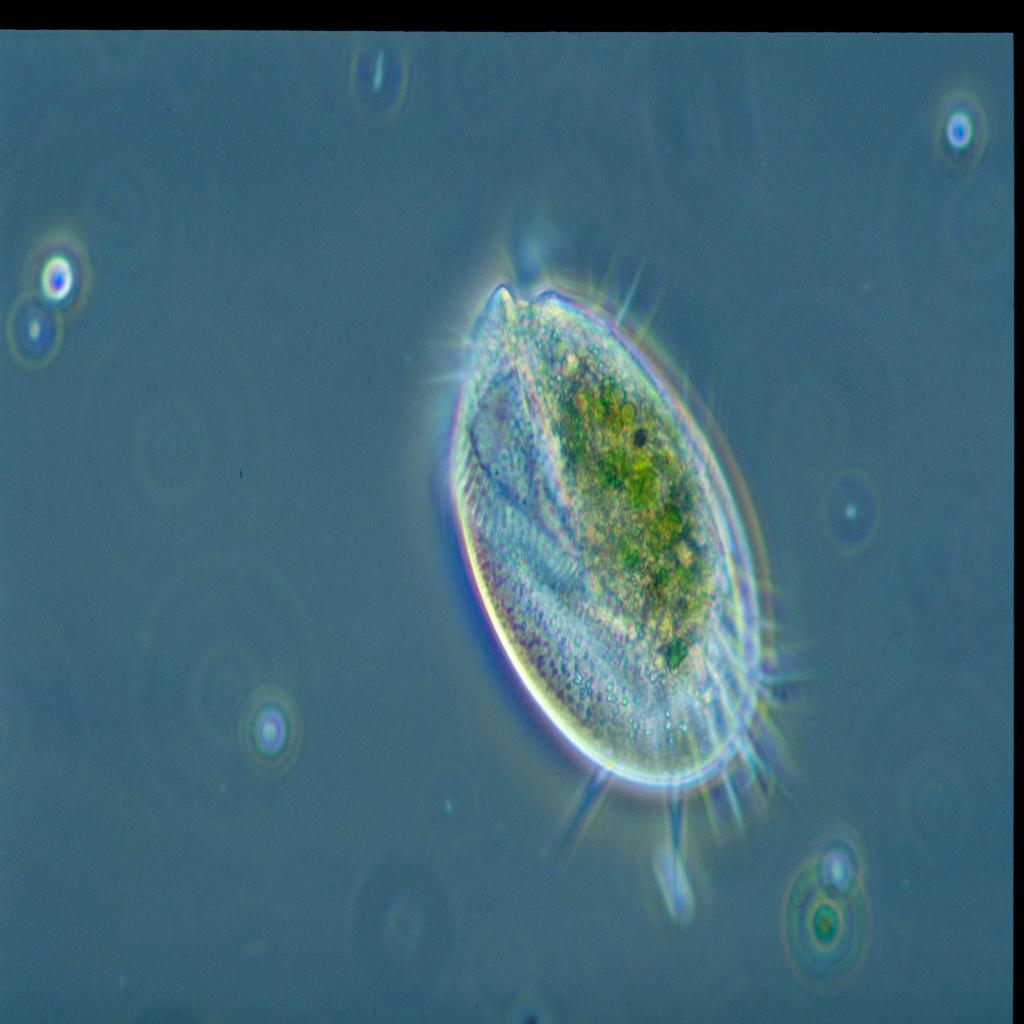Euplotes: (407, 234, 824, 852)
